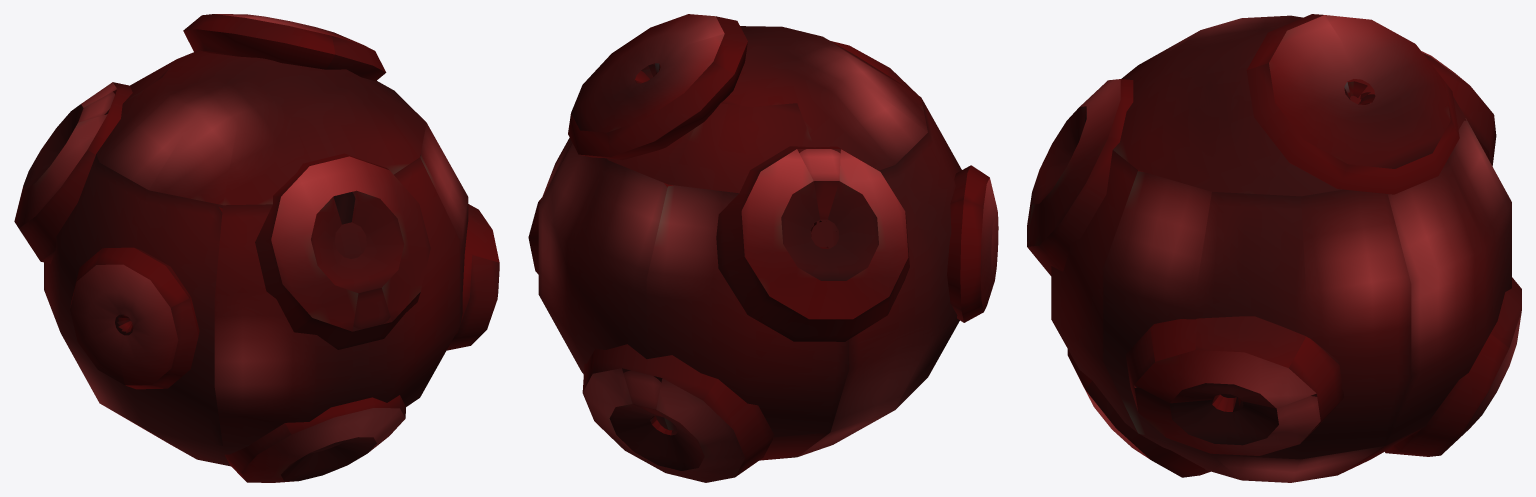
Rendered from asteroid.fbx.
3 views of the same model, side by side, from view 1: azimuth 30°, elevation 25°; view 2: azimuth 150°, elevation 25°; view 3: azimuth 270°, elevation 25° (orthographic). The views are drawn at different scales.
Parts seen in each view (by area): view 1: bone; view 2: bone; view 3: bone.
Part boxes in pixels (bbox=[...]): bone: bbox=[14, 14, 499, 482]; bone: bbox=[528, 14, 998, 482]; bone: bbox=[1027, 14, 1521, 482].
Bounding box in the file's own units: 120 × 115 × 113.
1 material, 1 textured.
